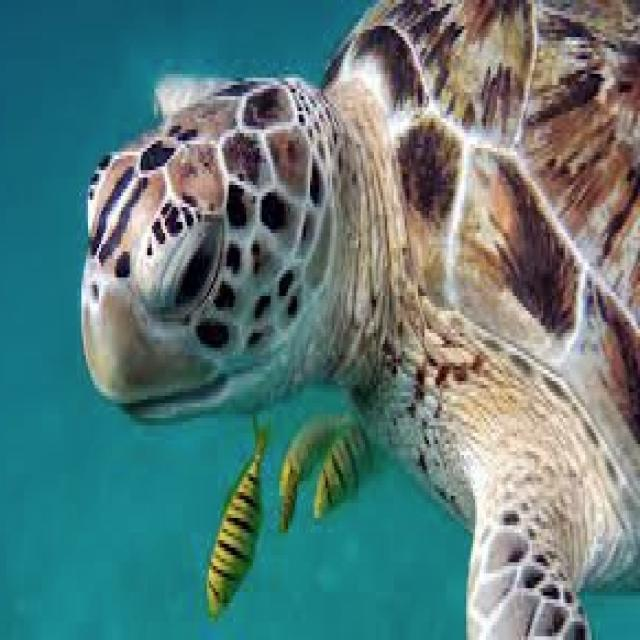turtle: (84, 0, 640, 636)
